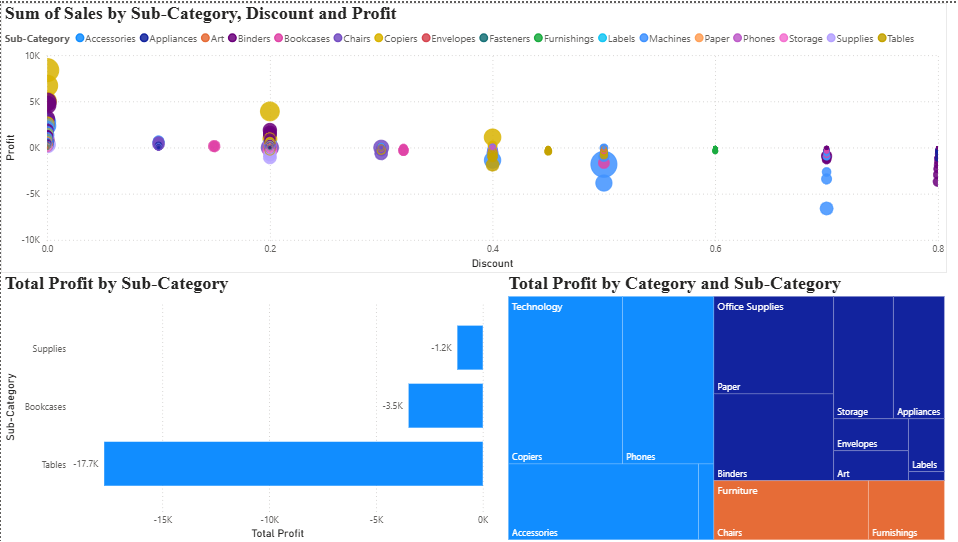

The dashboard page shown, as its layout file describes it:
{"tool":"powerbi","page":{"name":"Page 2","canvas":[1280,720],"ordinal":1},"visuals":[{"type":"treemap","fields":{"Group":["SampleSuperstore_cleaned.Category"],"Details":["SampleSuperstore_cleaned.Sub-Category"],"Values":["SampleSuperstore_cleaned.Total Profit"]},"box":[10,0,280,280],"z":0},{"type":"clusteredBarChart","fields":{"Category":["SampleSuperstore_cleaned.Sub-Category"],"Y":["SampleSuperstore_cleaned.Total Profit"]},"box":[9.6,359.5,679.2,279.9],"z":1},{"type":"scatterChart","fields":{"X":["SampleSuperstore_cleaned.Discount"],"Y":["SampleSuperstore_cleaned.Profit"],"Size":["Sum(SampleSuperstore_cleaned.Sales)"],"Series":["SampleSuperstore_cleaned.Sub-Category"]},"box":[308.7,0,971.5,266.2],"z":2}]}

Visuals, with their boxes in screenshot pixels (x1, y1, x2, y2), scaled from the page's 1280x720 canvas onto the 958x542 screenshot:
treemap - SampleSuperstore_cleaned.Category x SampleSuperstore_cleaned.Sub-Category: {"left": 7, "top": 0, "right": 217, "bottom": 211}
clusteredBarChart - SampleSuperstore_cleaned.Sub-Category x SampleSuperstore_cleaned.Total Profit: {"left": 7, "top": 271, "right": 516, "bottom": 481}
scatterChart - SampleSuperstore_cleaned.Discount x SampleSuperstore_cleaned.Profit: {"left": 231, "top": 0, "right": 957, "bottom": 200}
